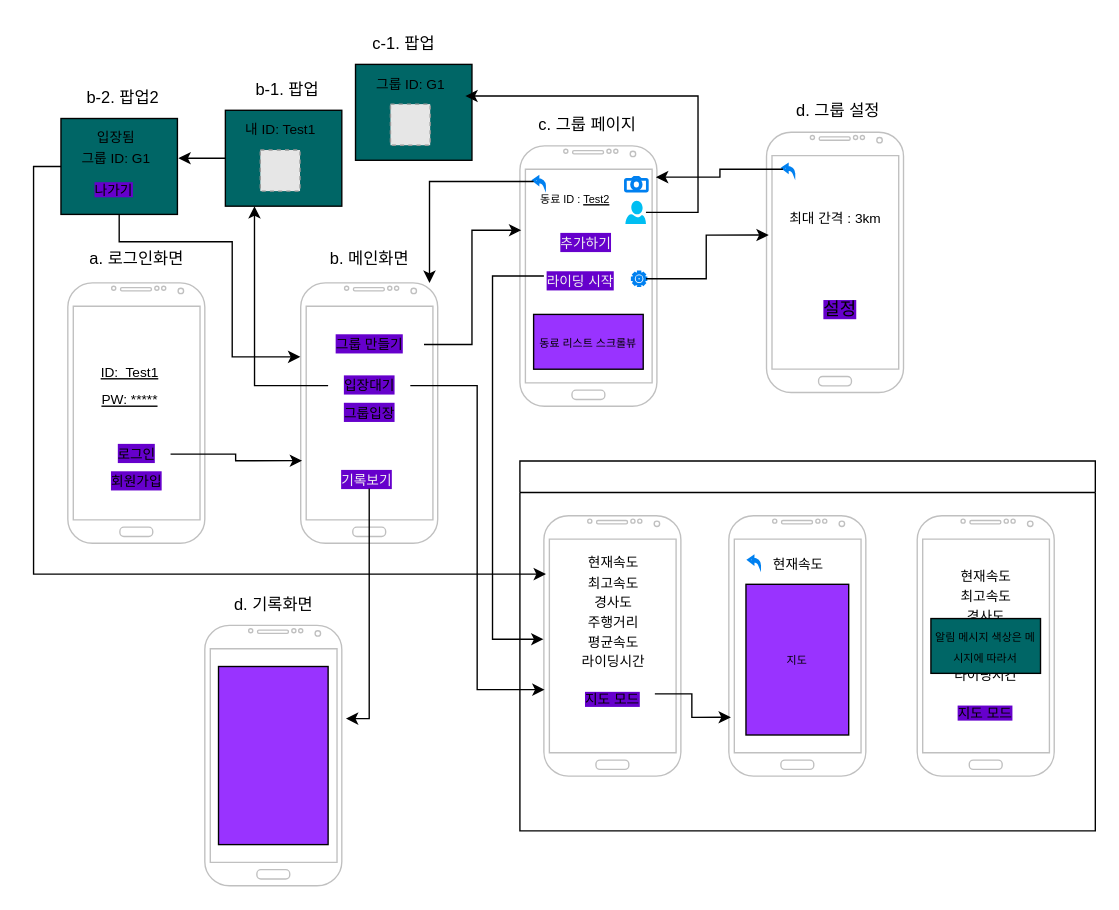
This 1119x910 diagram has some shape labels left out. Grey dashed boxes stand in for pictures. The shapes that lost their labels are listed below. From the top down, each one's box as (x1, y1, x2, y2) in pixels, then its label:
(519, 460, 1095, 831): e. 속도계
(217, 665, 328, 845): 라이딩 기록 스크롤뷰
